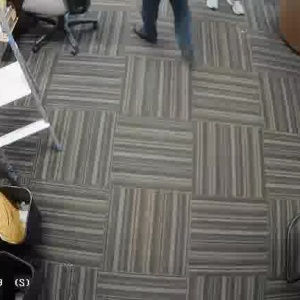person: (134, 0, 195, 78)
